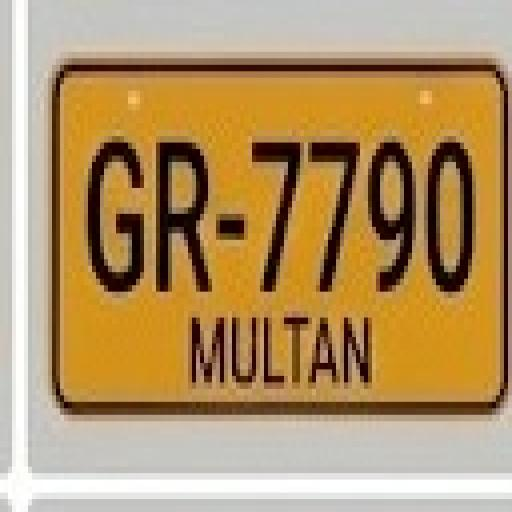0: (422, 132, 480, 298)
7: (302, 133, 360, 294), (248, 130, 300, 302)
9: (362, 131, 417, 296)
G: (85, 138, 144, 302)
R: (148, 133, 213, 297)
